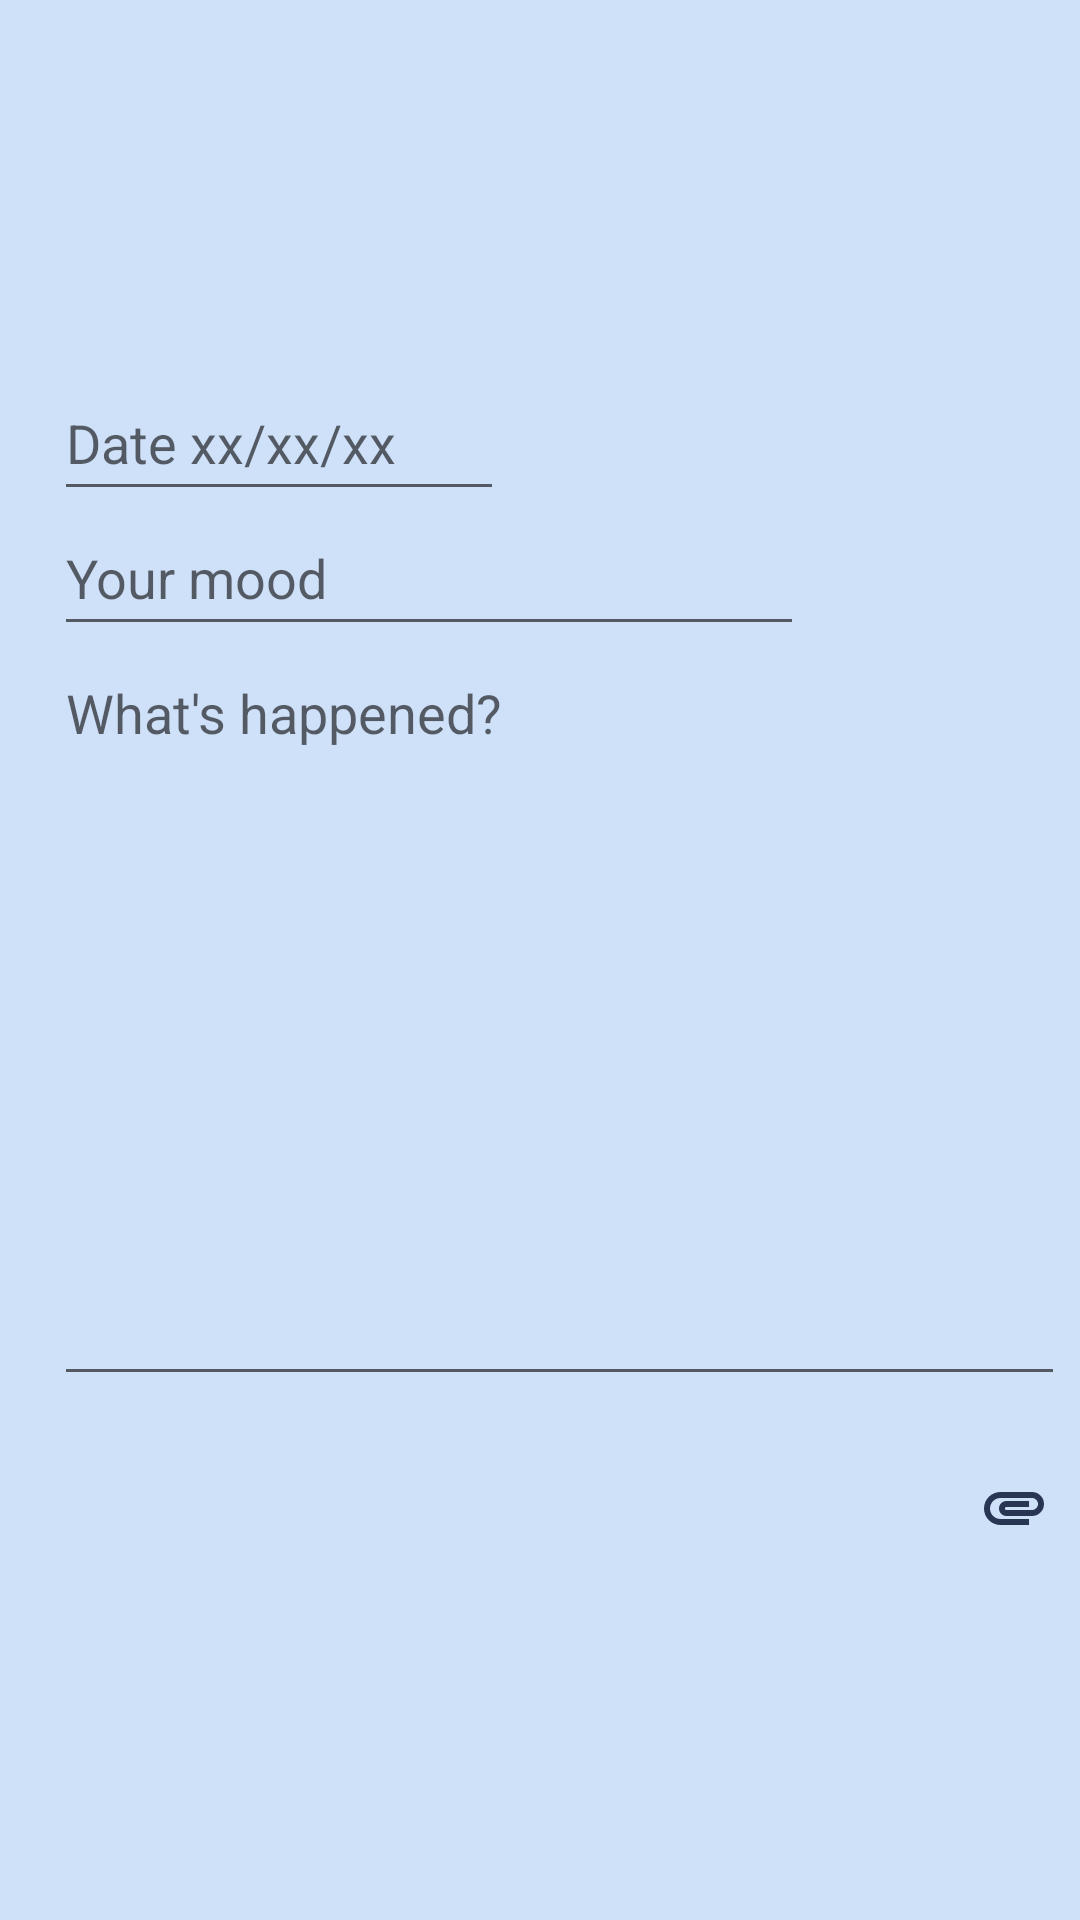

Screen size 1080px x 1920px. Icon name, then its center in pixels as (x,y):
attachment: (1014,1508)
